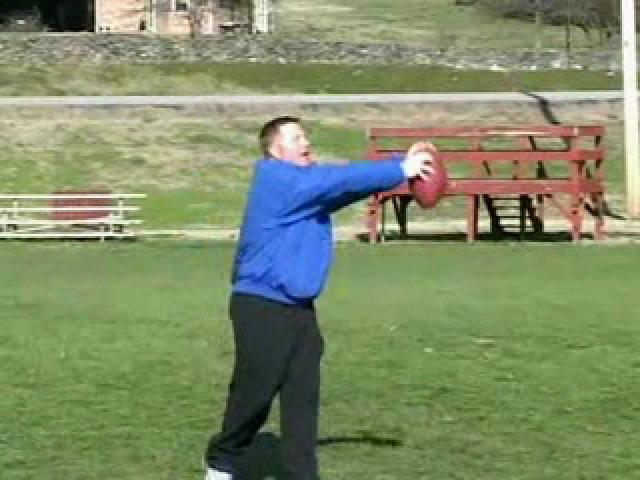I: (201, 107, 426, 480)
